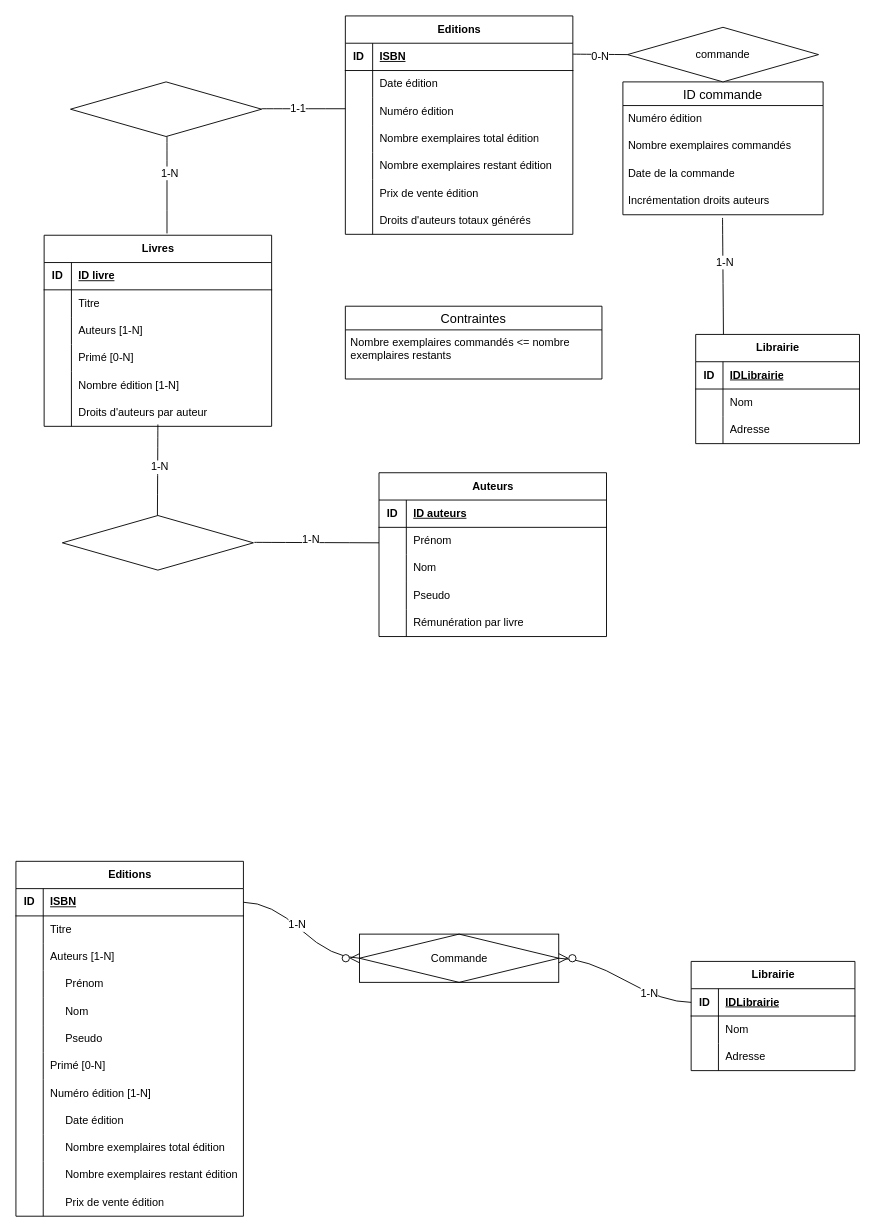
Image size: 875x1232. Some labels were removed from this diagram. The shapes that lost their labels are listed below. From the top down, each one's centre as x and y in pixels, then its label:
the point at 166,108: édite
the point at 157,542: écrit
